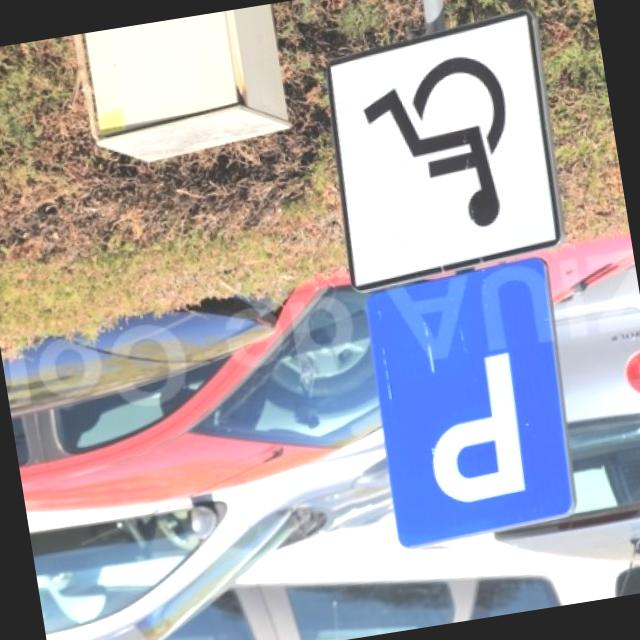symbol_of_access: (322, 23, 564, 278)
